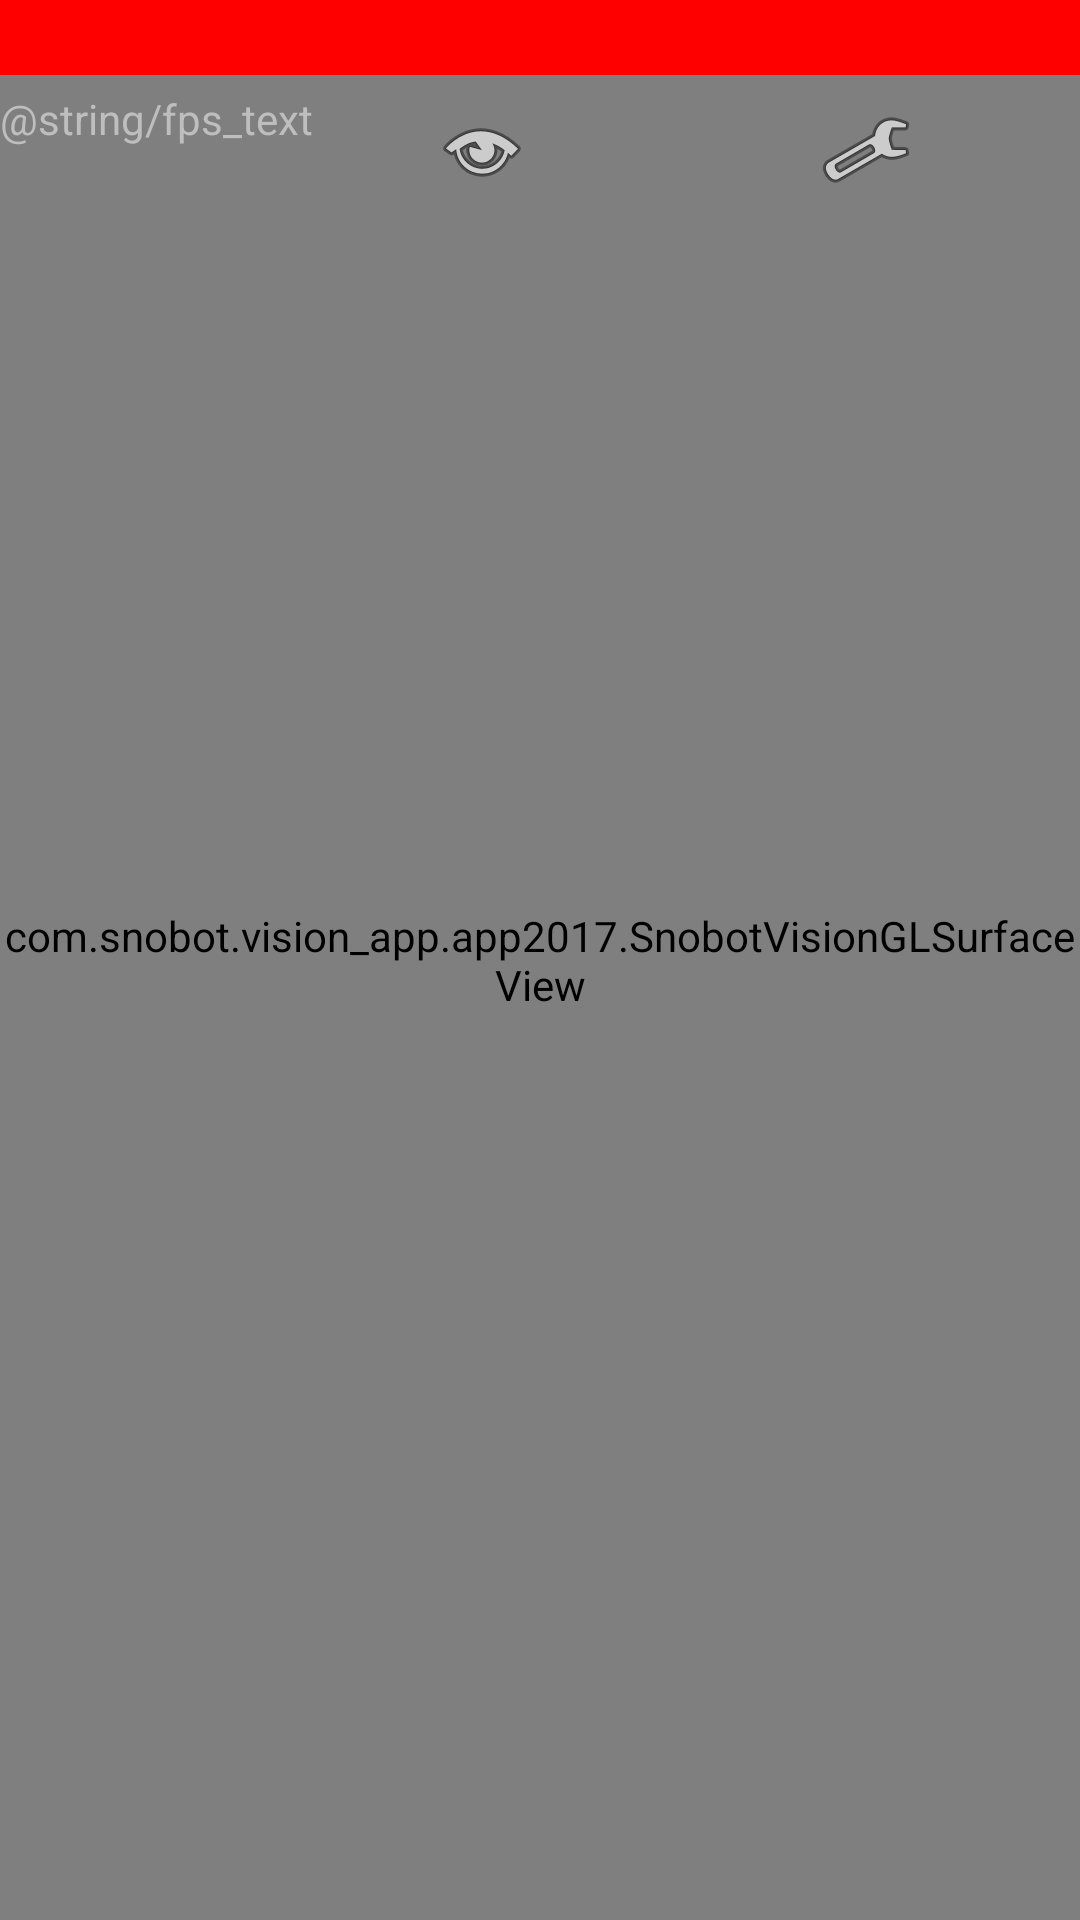

Icons on this 1080w x 1920h Android screen, each with its box as {"left": x1, "top": y1, "right": x2, "bottom": y2}:
manage: {"left": 823, "top": 117, "right": 909, "bottom": 183}
